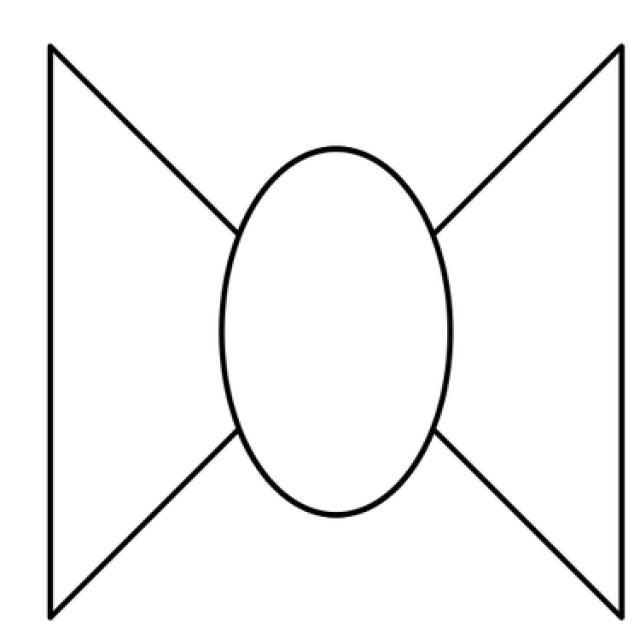ball valve: (50, 40, 626, 622)
